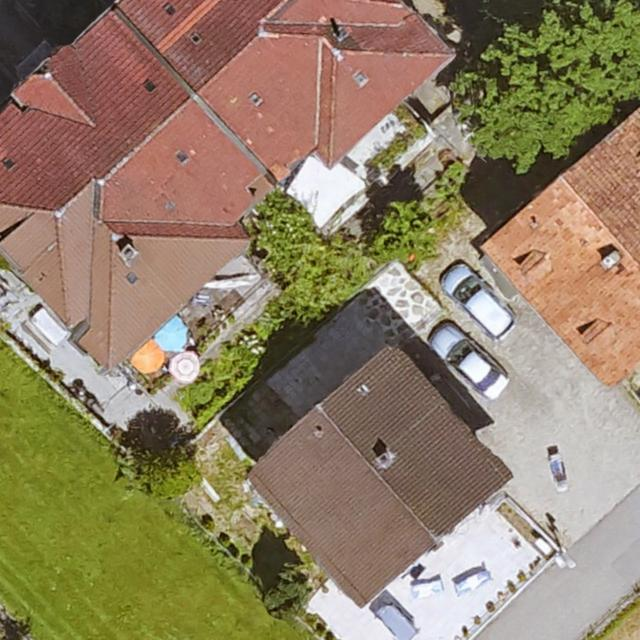tree: (461, 0, 640, 176), (364, 203, 442, 259), (139, 452, 197, 501), (265, 576, 311, 616)
